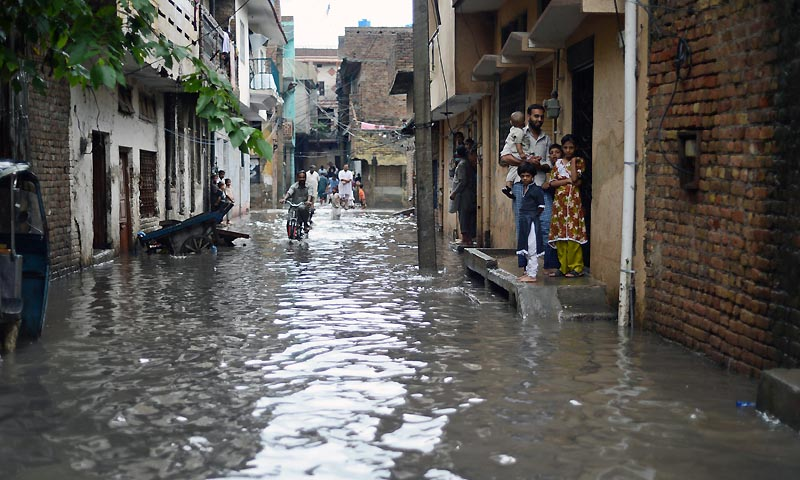building: (332, 24, 427, 215)
person: (511, 98, 553, 274), (547, 133, 583, 280), (514, 162, 554, 262), (279, 167, 323, 229), (497, 106, 524, 201), (546, 141, 572, 192), (337, 161, 359, 209), (211, 175, 226, 210), (224, 176, 233, 211)
sky: (281, 1, 411, 36)
water: (14, 283, 800, 474), (85, 253, 422, 297), (319, 208, 412, 249), (231, 210, 284, 260), (281, 237, 325, 252)
